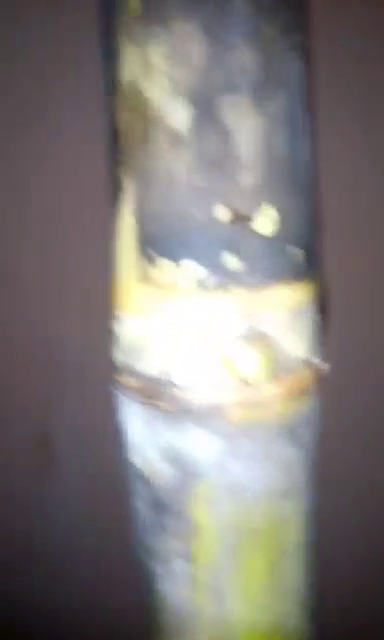cane eye: (227, 333, 283, 387)
